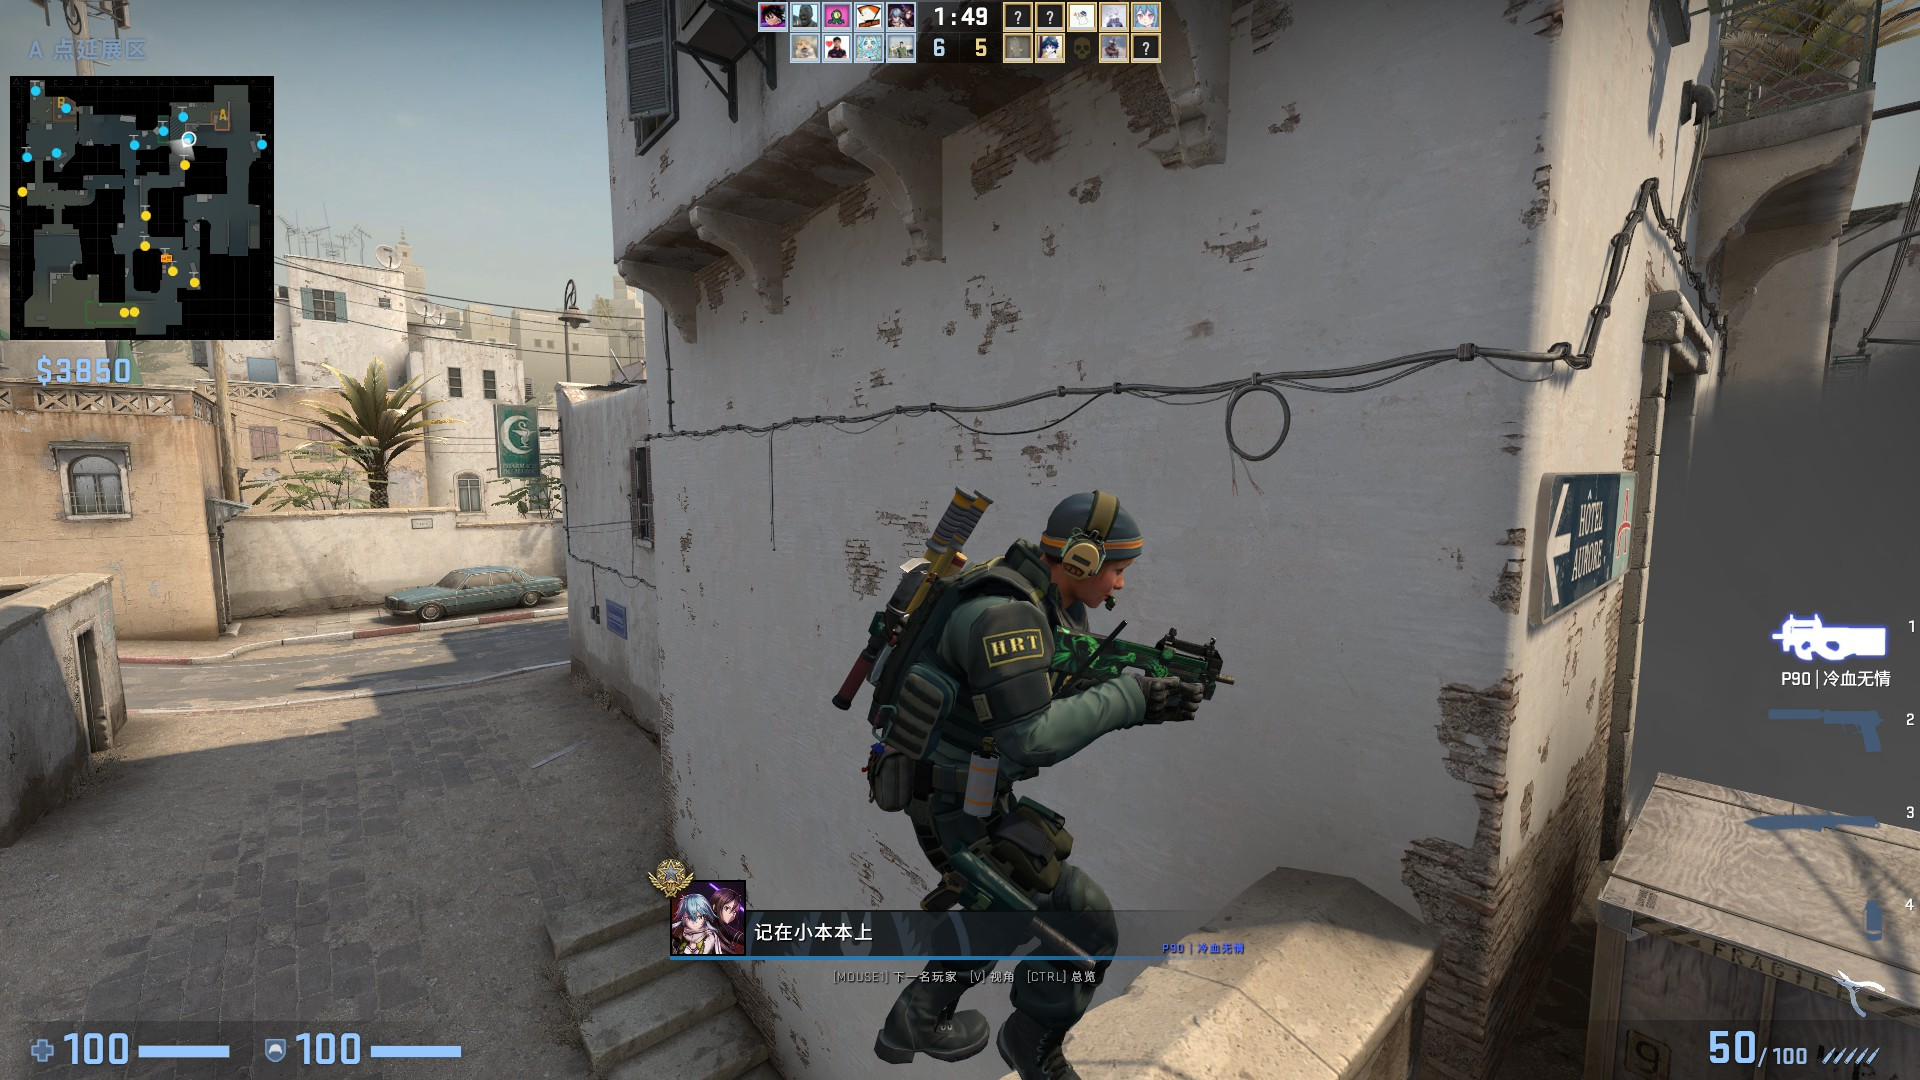head: (1043, 485, 1143, 619)
